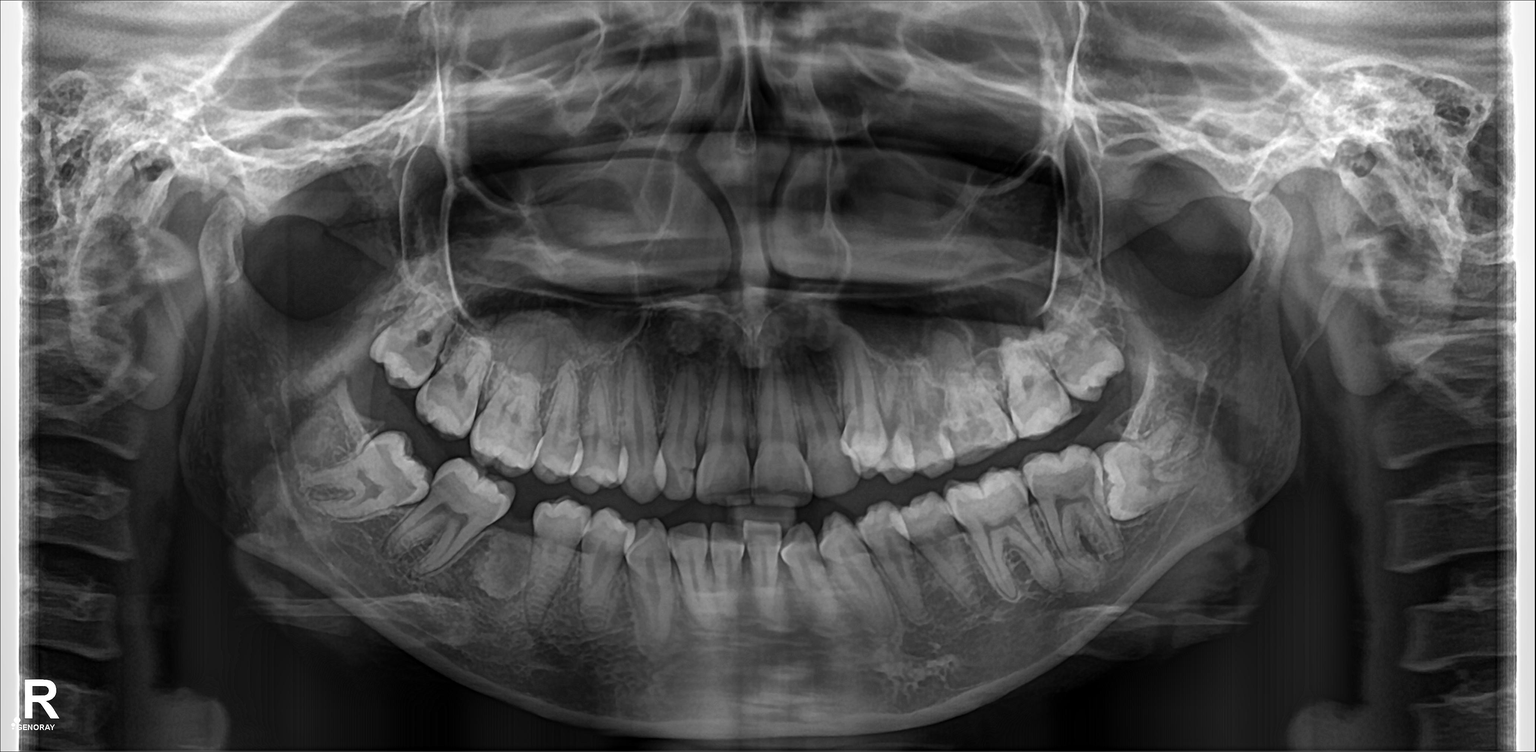Impacted Third Molar: (296, 443, 420, 514), (1093, 445, 1201, 520), (374, 302, 450, 383)
Missing Tooth: (485, 501, 539, 606)
